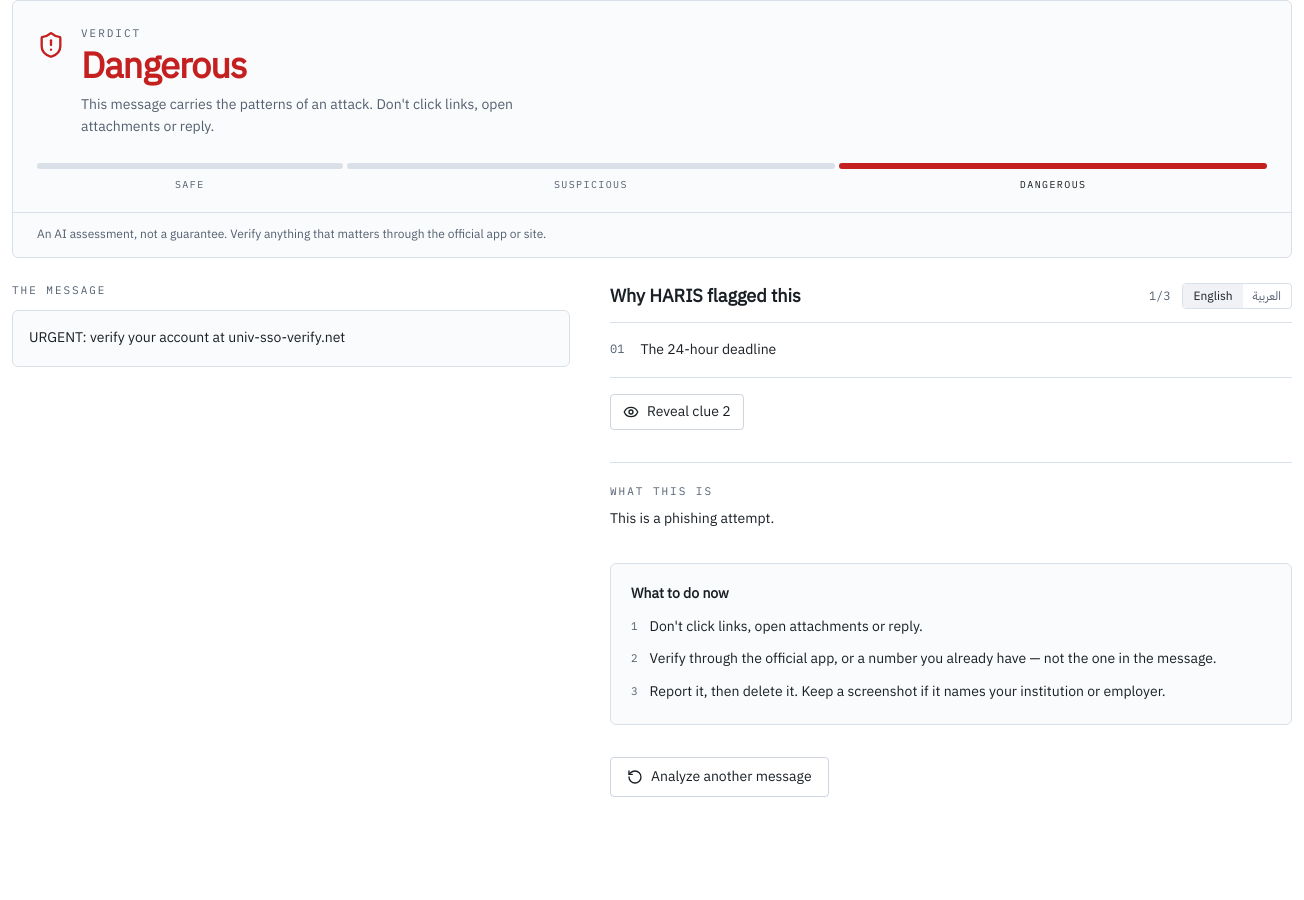
Test: AnalysisResults › reveals the evidence one clue at a time, then asks for the attack type
Expected: the text "The lookalike domain" is not shown
Click the button "Reveal clue 2" at (677, 412), box [610,394,744,430]
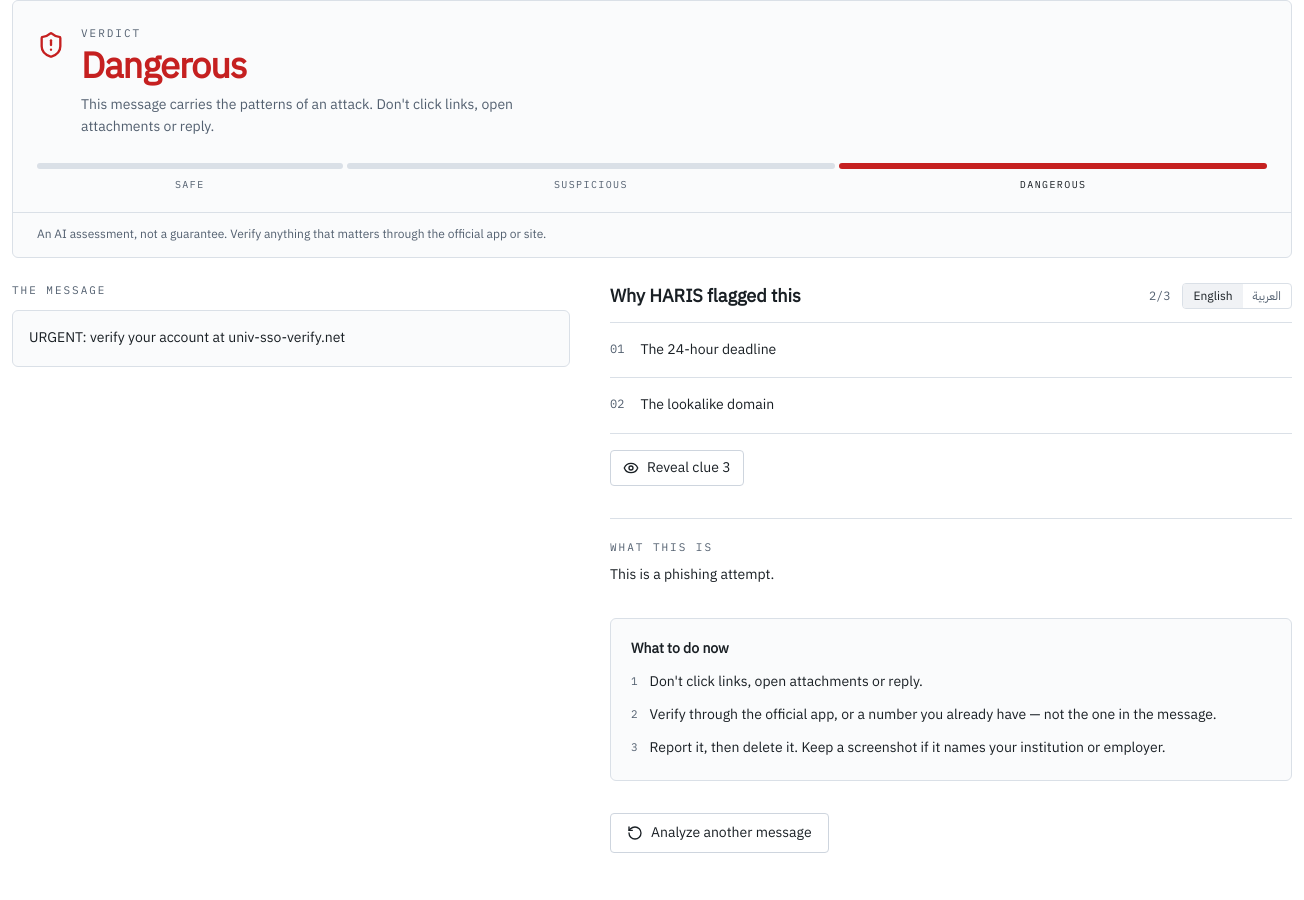
Now the text "The lookalike domain" is shown, box [640,394,774,417]
Click the button "Reveal clue 3" at (677, 468), box [610,450,744,486]
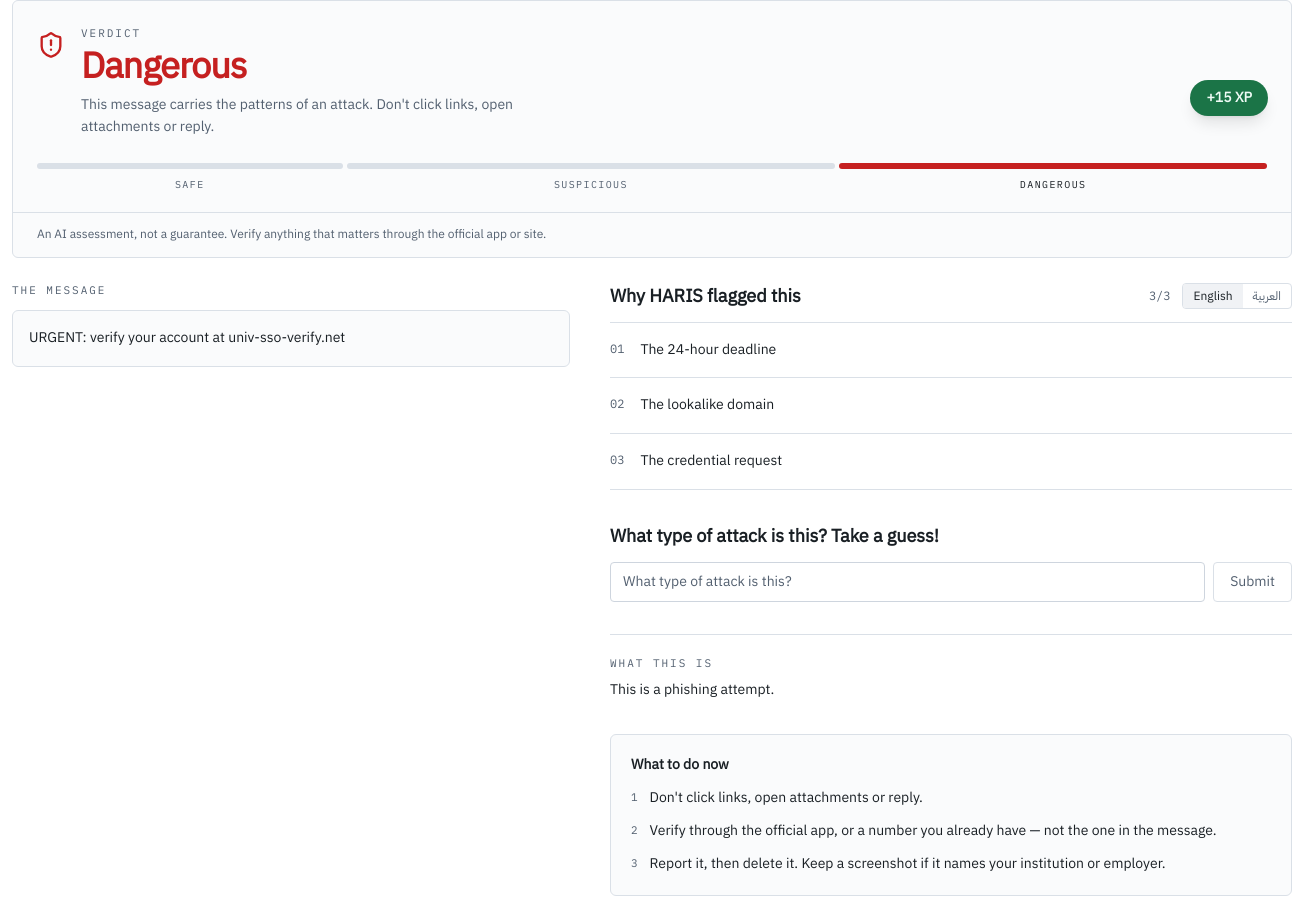
Now the text "The credential request" is shown, box [640,450,782,473]
Now the heading "What type of attack is this? Take a guess!" is shown, box [610,522,939,549]
